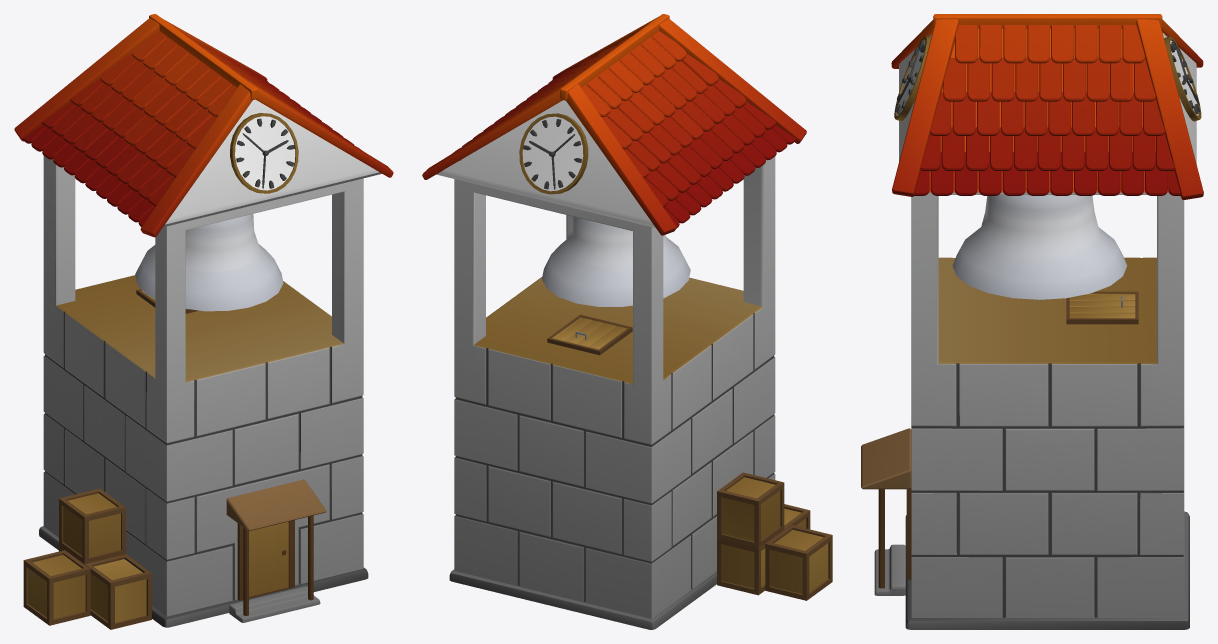
Rendered from belltower.fbx.
The picture shows the model from 3 angles, left to right: view 1: azimuth 30°, elevation 25°; view 2: azimuth 150°, elevation 25°; view 3: azimuth 270°, elevation 25°; orthographic projection. The views are drawn at different scales.
Parts seen in each view (by area): view 1: belltower; view 2: belltower; view 3: belltower.
Boxes of the visible parts, left/top/right/bottom form: belltower: left=14, top=14, right=393, bottom=629; belltower: left=422, top=14, right=832, bottom=629; belltower: left=861, top=14, right=1203, bottom=629.
Bounding box in the file's own units: 3.76 × 5.86 × 3.25.
2 materials, 2 textured.
